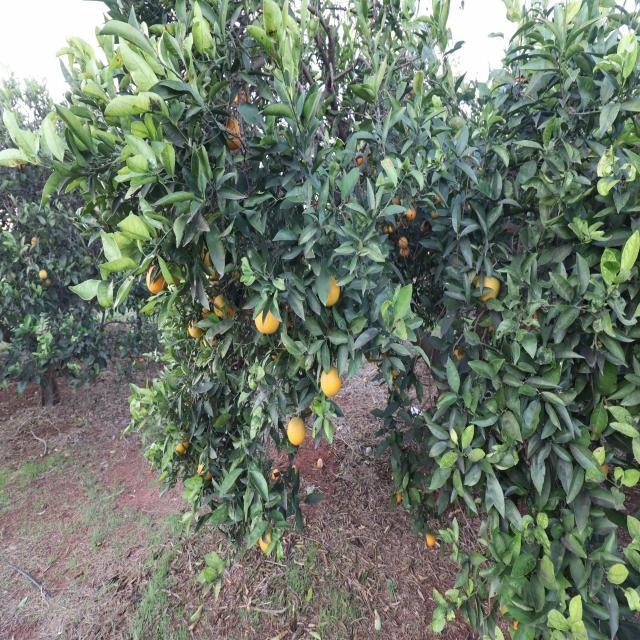Jeruk Belum Matang: (477, 276, 498, 304), (172, 430, 189, 454), (198, 458, 213, 481), (188, 317, 204, 338), (260, 531, 272, 554), (201, 246, 211, 269), (430, 212, 440, 219)
Jeruk Sudah Matang: (254, 308, 281, 336), (320, 366, 342, 398), (146, 264, 168, 294), (320, 276, 340, 306), (224, 118, 242, 150), (288, 416, 306, 446), (214, 294, 229, 317), (168, 262, 182, 284), (199, 308, 210, 330), (223, 300, 236, 318), (234, 90, 247, 106), (426, 530, 436, 548), (454, 348, 466, 361), (195, 449, 207, 462), (406, 208, 416, 222), (394, 489, 402, 504), (356, 153, 364, 166), (400, 237, 408, 249), (392, 196, 400, 206), (367, 354, 373, 364), (401, 248, 408, 256), (392, 369, 399, 377), (435, 195, 441, 203)
